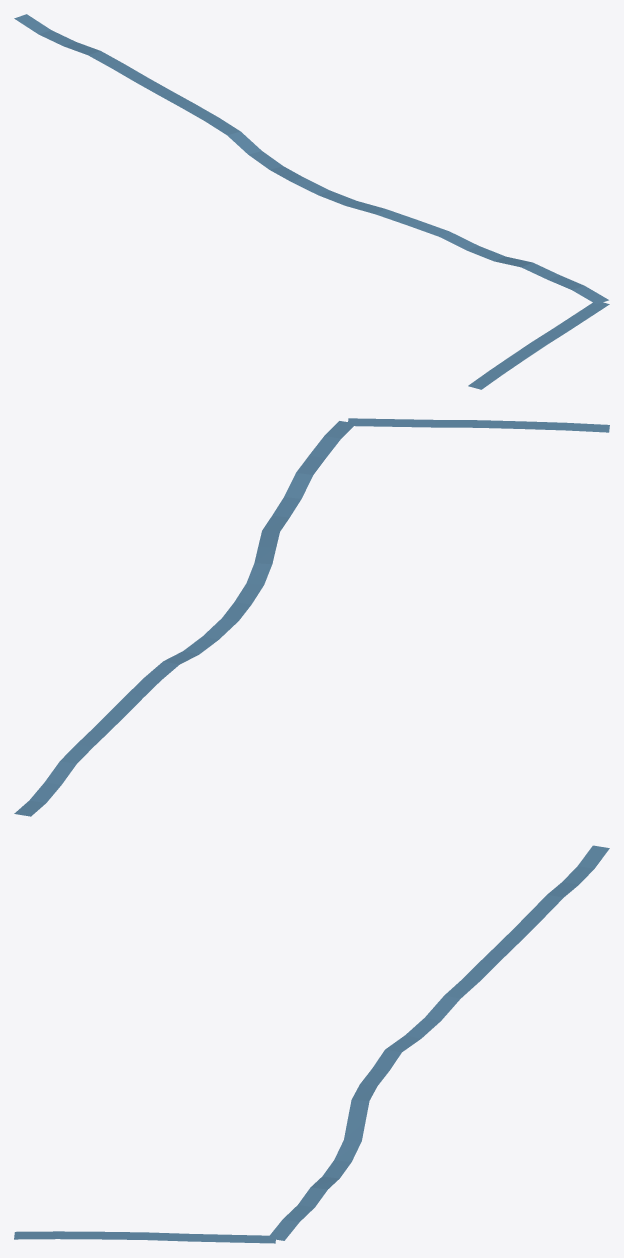
Rendered from c_1634_17836_water.glb.
3 views of the same model, one above another, from view 1: azimuth 30°, elevation 25°; view 2: azimuth 150°, elevation 25°; view 3: azimuth 330°, elevation 25° (orthographic). The views are drawn at different scales.
Parts seen in each view (by area): view 1: geometry_0; view 2: geometry_0; view 3: geometry_0.
Boxes of the visible parts, box(x1,y1,x2,y2) form: geometry_0: box(14, 14, 609, 389); geometry_0: box(14, 418, 609, 816); geometry_0: box(14, 845, 609, 1243).
Bounding box in the file's own units: 33.74 × 1.48 × 151.
